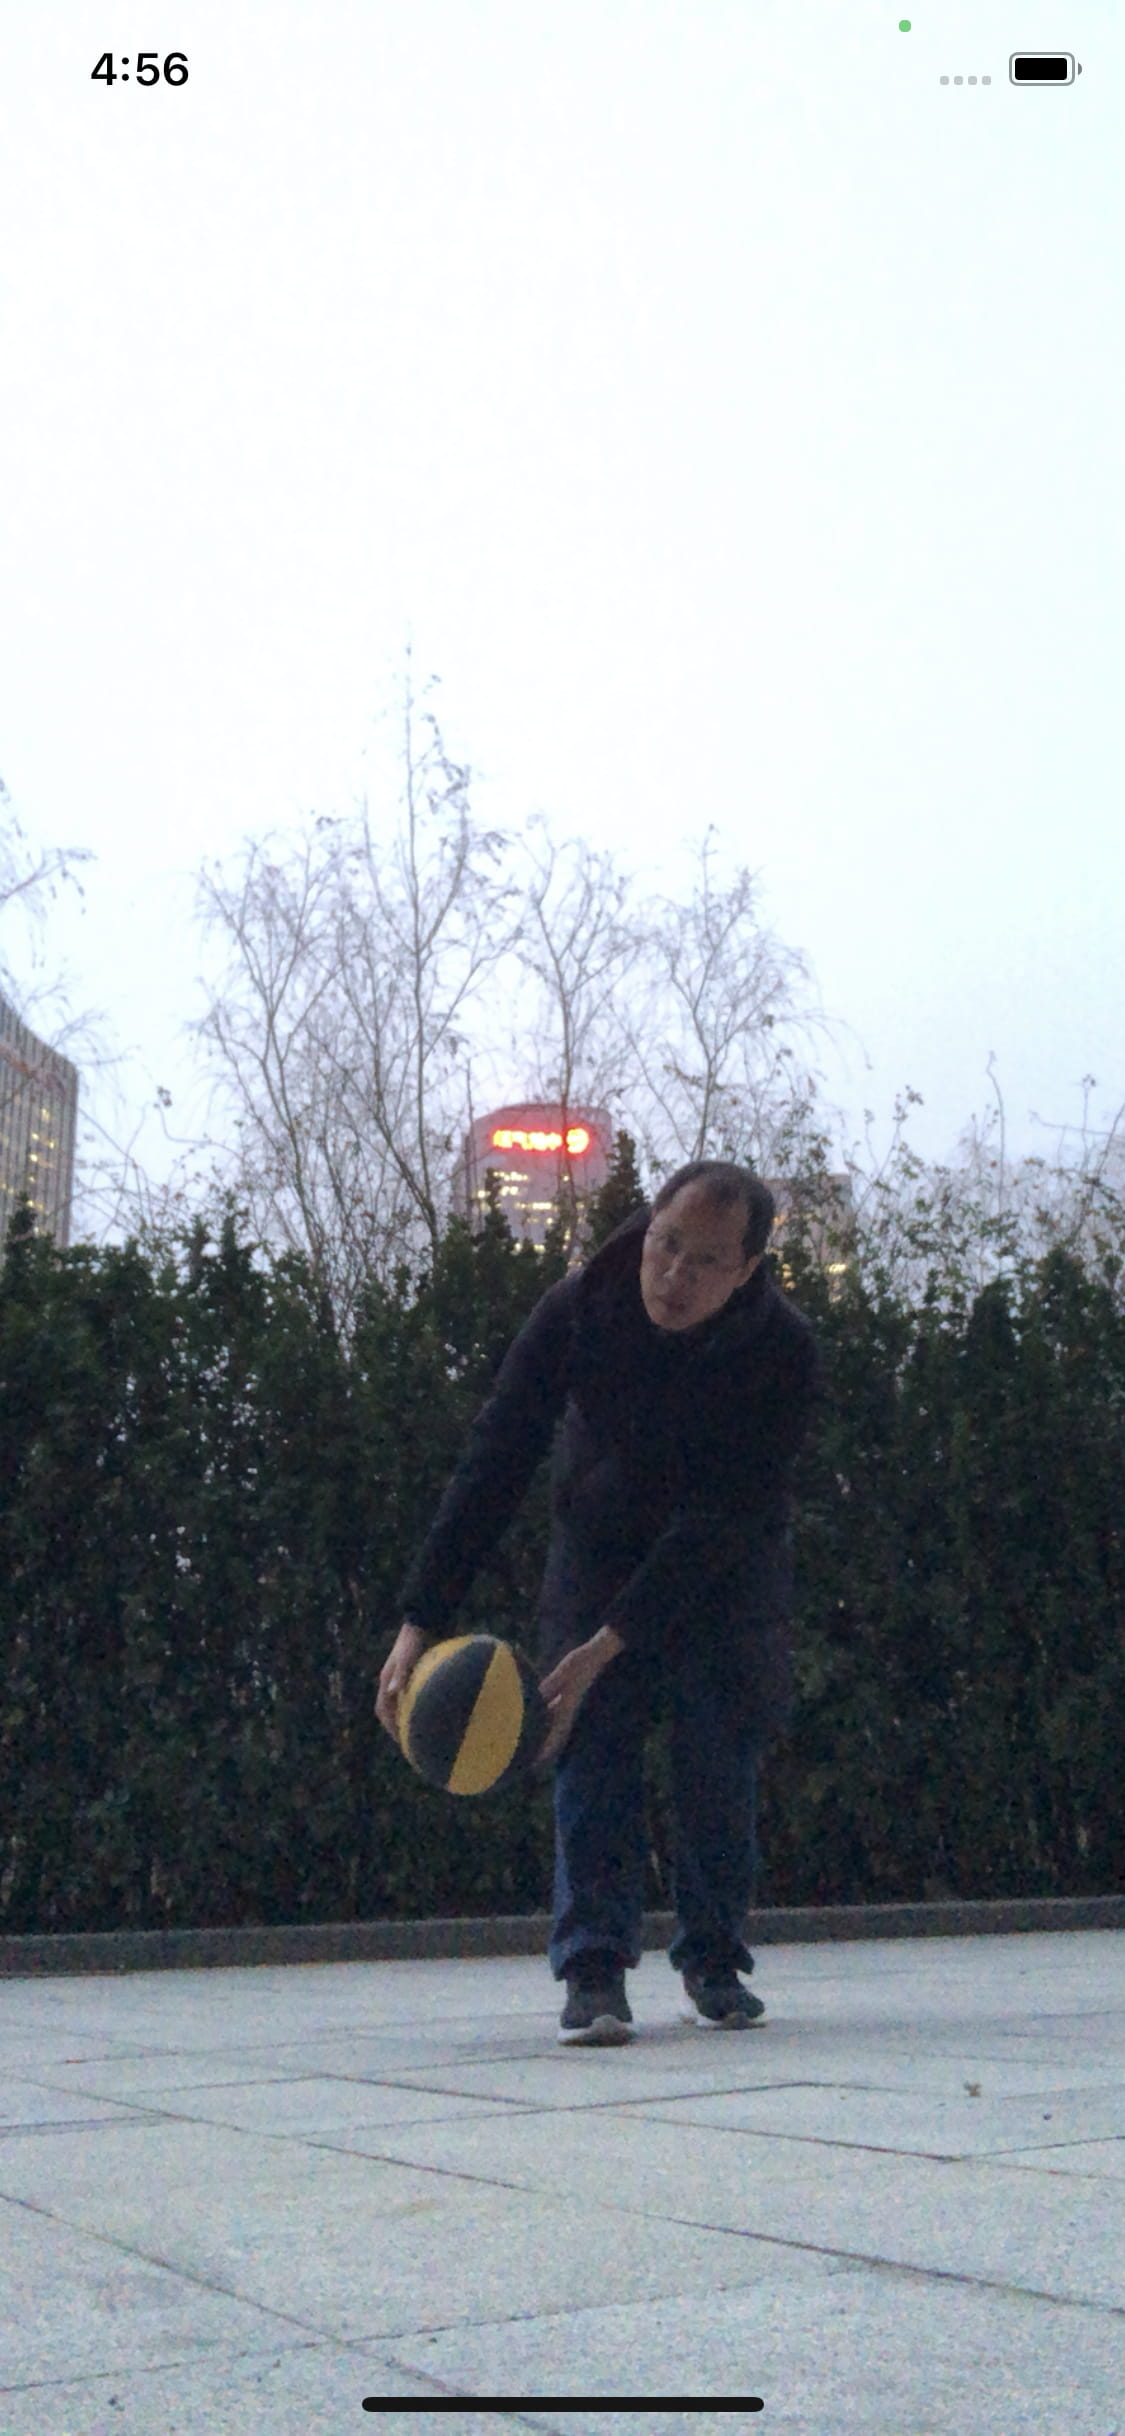ball: (381, 1631, 556, 1799)
